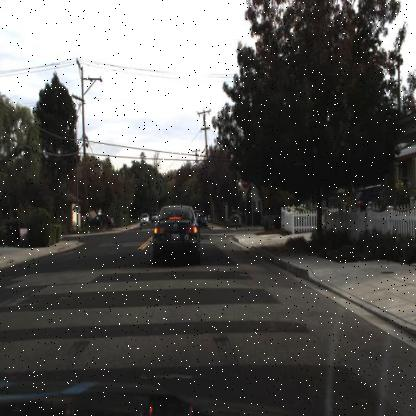car: (144, 202, 204, 272), (84, 208, 115, 234), (136, 205, 151, 231), (194, 209, 208, 230)
